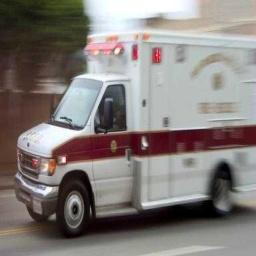Ambulance: (15, 31, 255, 236)
